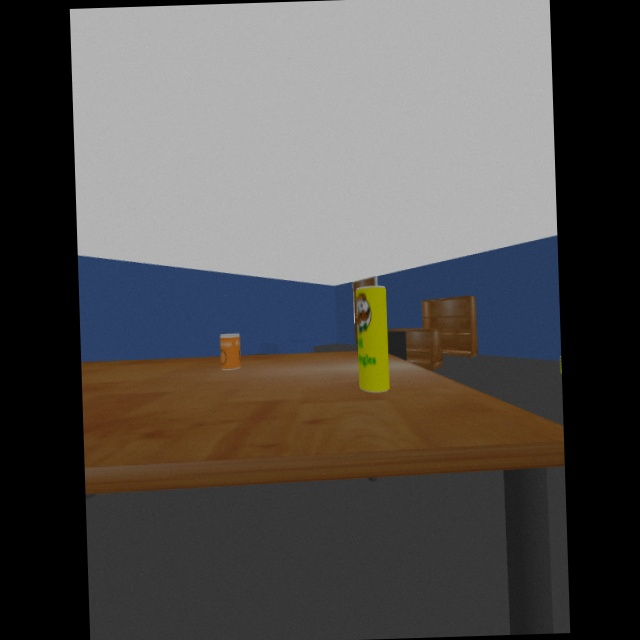chipsdose_gelb: (355, 285, 390, 393)
